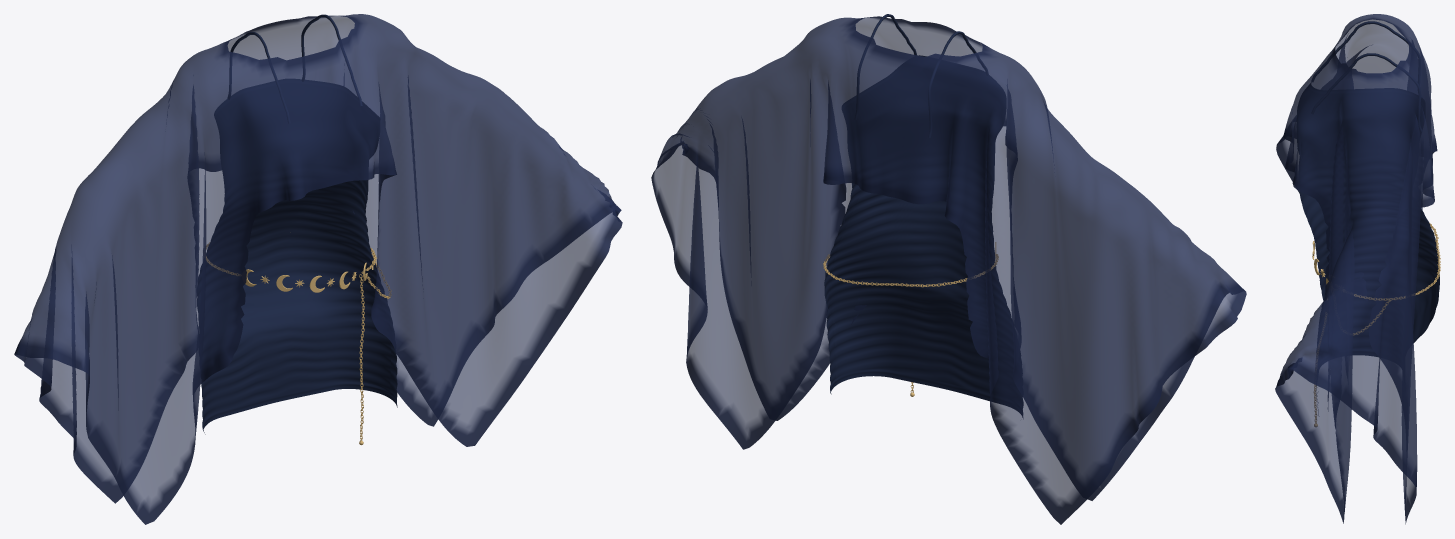
File: vestido-capa-talla-XL.glb
The picture shows the model from 3 angles, left to right: view 1: azimuth 30°, elevation 25°; view 2: azimuth 150°, elevation 25°; view 3: azimuth 270°, elevation 25°; orthographic projection. The views are drawn at different scales.
Parts seen in each view (by area): view 1: capa-malla, vestido-tirantes, cadena-lunas; view 2: capa-malla, vestido-tirantes; view 3: capa-malla, vestido-tirantes, tirante (×2), cadena.
Part boxes in pixels (x1,y1,x2,y2): capa-malla: (14, 14, 622, 524); vestido-tirantes: (197, 79, 397, 434); cadena-lunas: (245, 261, 373, 445); capa-malla: (651, 16, 1246, 524); vestido-tirantes: (824, 55, 1023, 417); capa-malla: (1275, 14, 1437, 524); vestido-tirantes: (1297, 82, 1439, 394); tirante (×2): (1311, 21, 1422, 132); cadena: (1354, 223, 1440, 300).
Size of the model in its own units: 1.27 by 0.9268 by 0.335.
